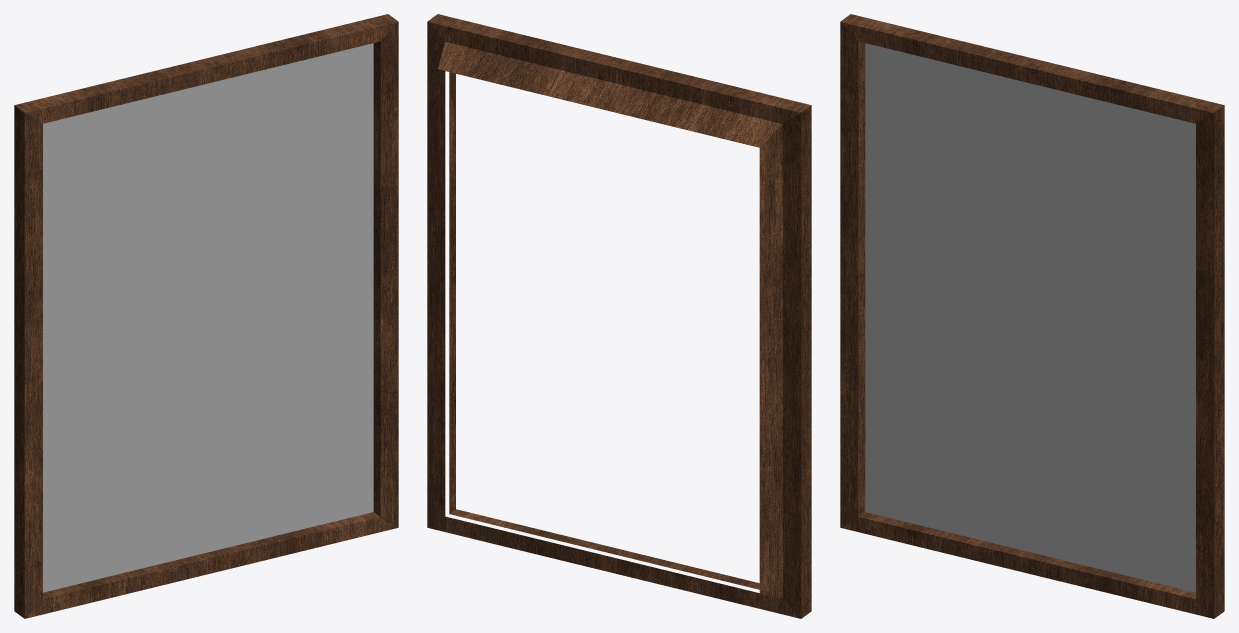
File: cityframe.glb
The picture shows the model from 3 angles, left to right: view 1: azimuth 30°, elevation 25°; view 2: azimuth 150°, elevation 25°; view 3: azimuth 330°, elevation 25°; orthographic projection.
Visible parts, largest first — view 1: house_interior:Box043 (×2); view 2: house_interior:Box043; view 3: house_interior:Box043 (×2).
Boxes of the visible parts, x1=… form: house_interior:Box043 (×2): x1=14, y1=14, x2=398, y2=618; house_interior:Box043: x1=427, y1=14, x2=811, y2=618; house_interior:Box043 (×2): x1=840, y1=14, x2=1224, y2=618.
Bounding box in the file's own units: 1.68 × 2.17 × 0.2033.
2 materials, 2 textured.
